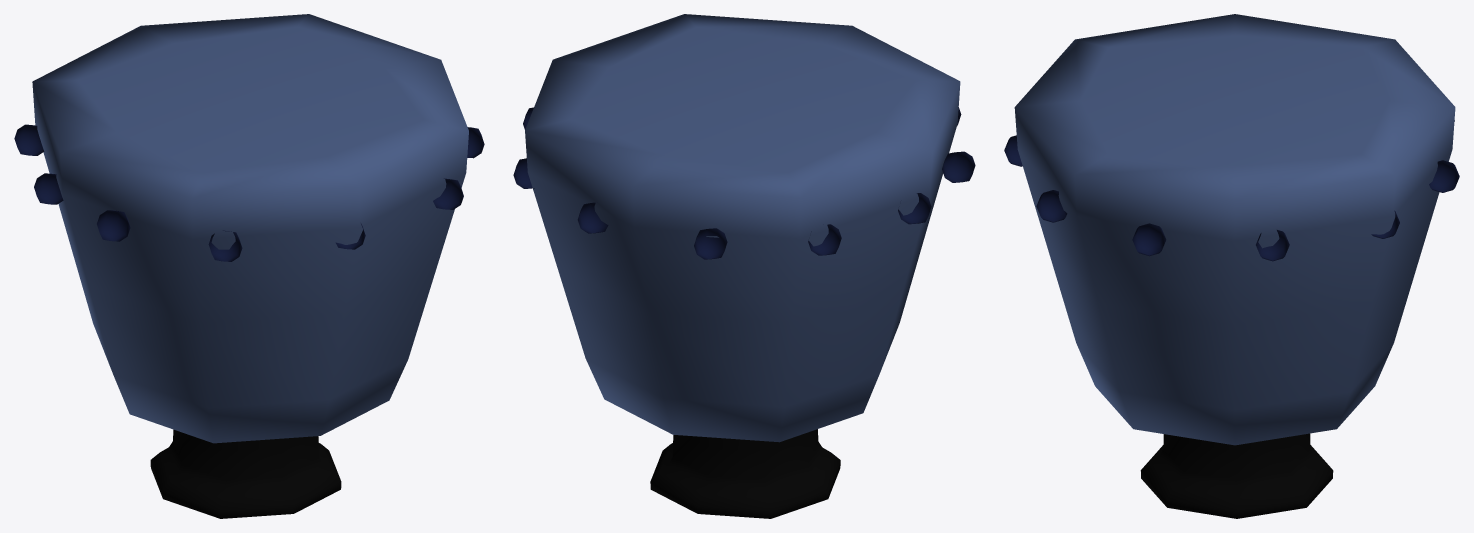
The model's file is rocket_bottom.fbx.
The picture shows the model from 3 angles, left to right: view 1: azimuth 30°, elevation 25°; view 2: azimuth 150°, elevation 25°; view 3: azimuth 270°, elevation 25°; orthographic projection.
Parts seen in each view (by area): view 1: Cube.011; view 2: Cube.011; view 3: Cube.011.
Part boxes in pixels (x1,y1,x2,y2): Cube.011: (14, 14, 484, 518); Cube.011: (513, 14, 975, 518); Cube.011: (1004, 14, 1459, 518).
Bounding box in the file's own units: 143 × 132 × 141.
